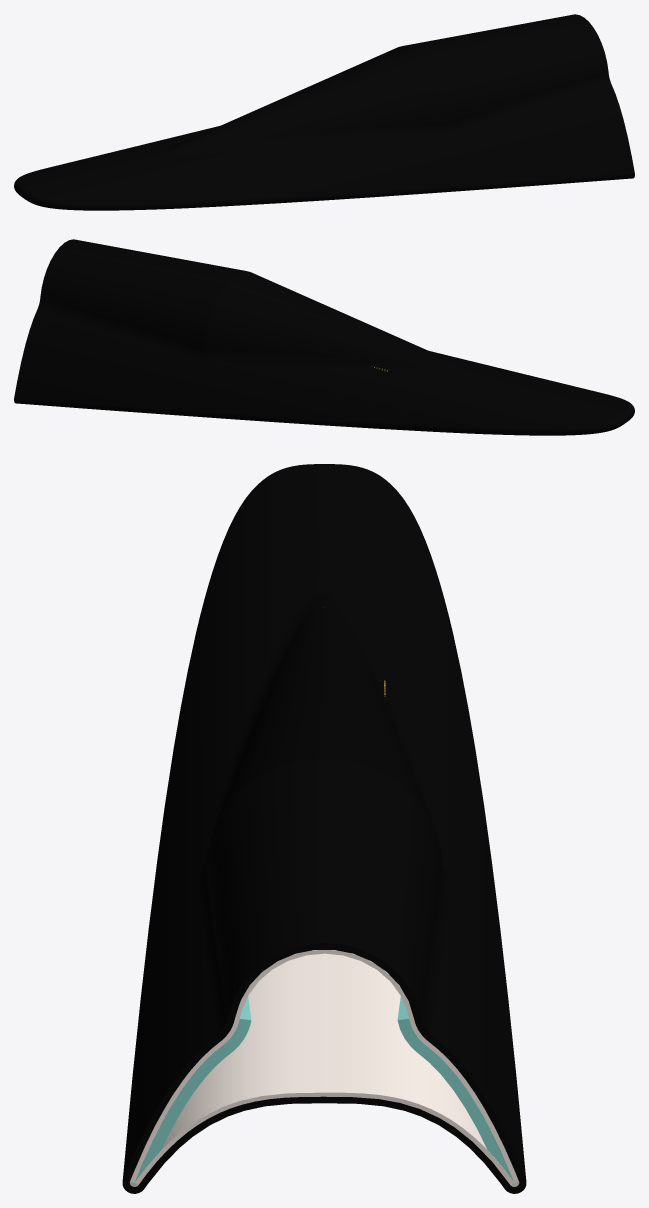
Rendered from COMAssembly.glb.
3 renders of one model, top to bottom at view 1: azimuth 30°, elevation 25°; view 2: azimuth 150°, elevation 25°; view 3: azimuth 270°, elevation 25°, orthographic. The views are drawn at different scales.
Parts seen in each view (by area): view 1: M1V7_COM-Final-1; view 2: M1V7_COM-Final-1; view 3: M1V7_COM-Final-1.
Boxes of the visible parts, box(x1,y1,x2,y2) form: M1V7_COM-Final-1: box(14, 14, 634, 210); M1V7_COM-Final-1: box(14, 239, 634, 435); M1V7_COM-Final-1: box(122, 464, 526, 1193).
Bounding box in the file's own units: 0.5477 × 0.1249 × 0.17.
